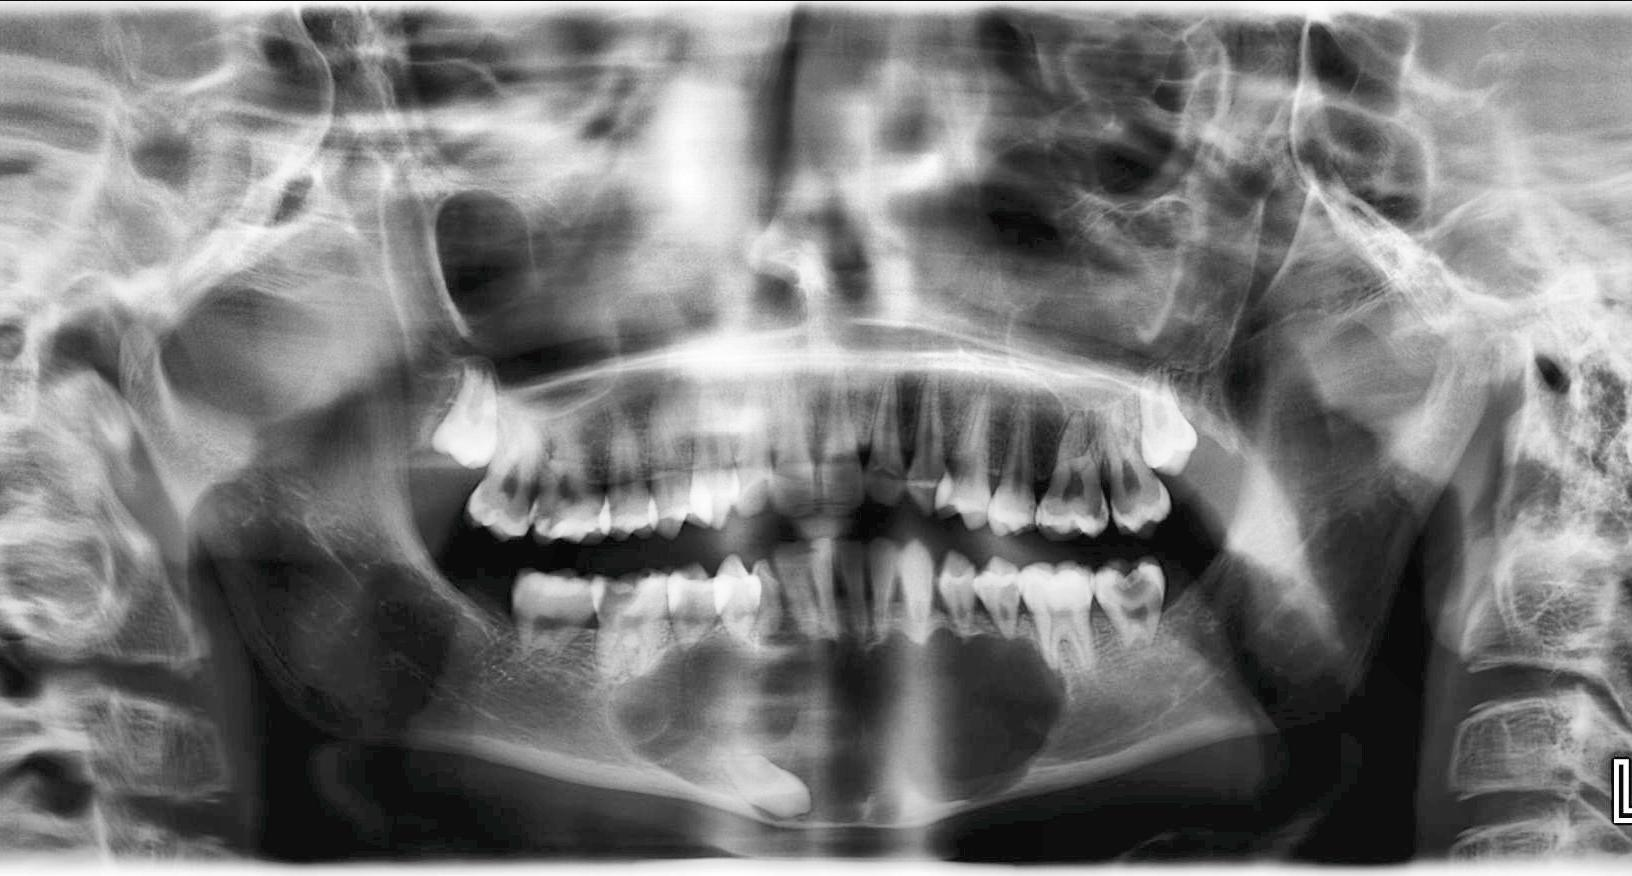okc: (604, 624, 1069, 824)
